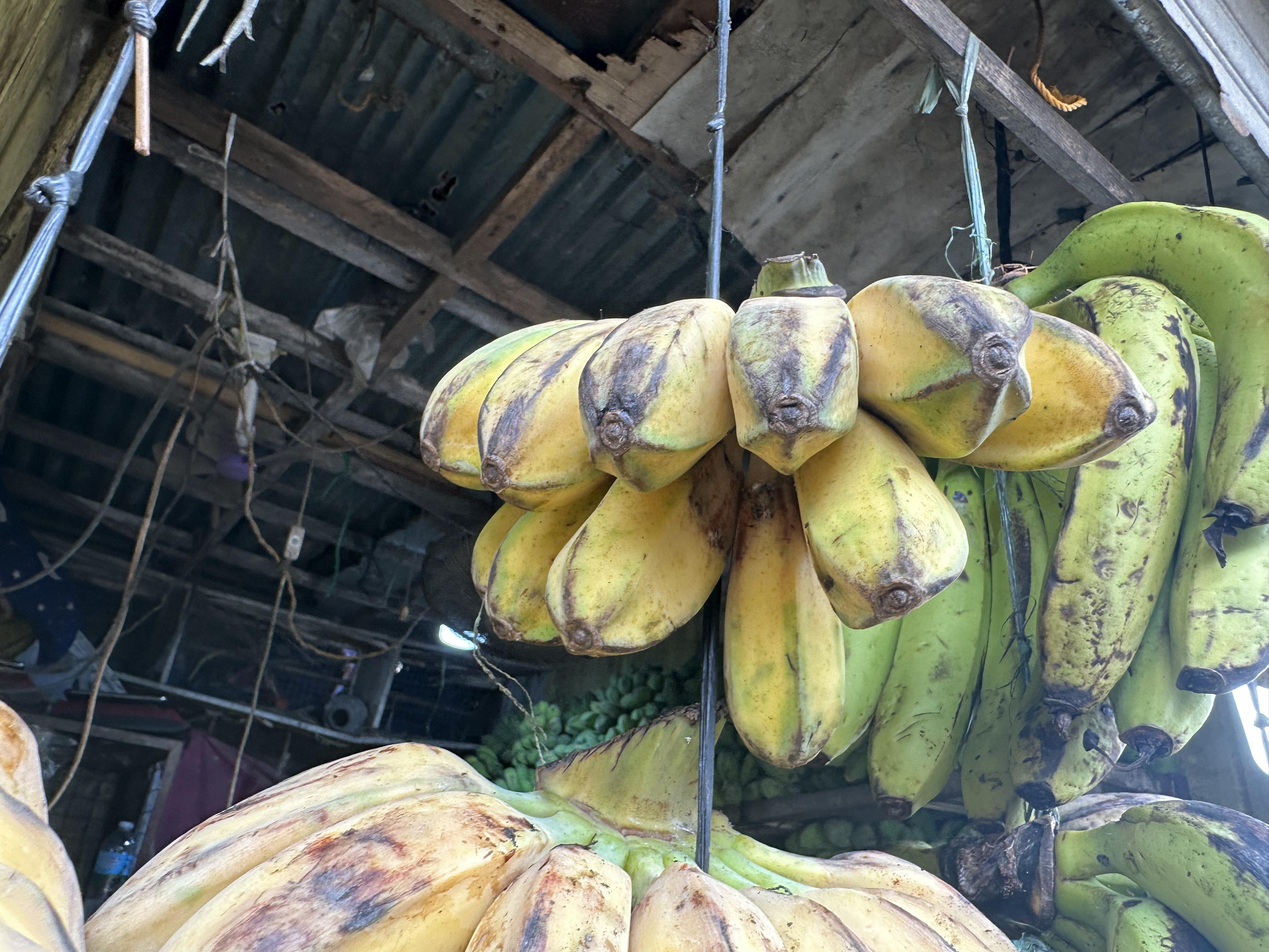ripe: (88, 745, 1037, 952)
underripe: (421, 276, 1156, 768)
